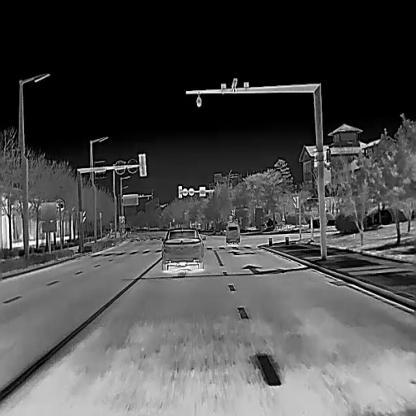car: (158, 225, 207, 270), (224, 221, 241, 245)
